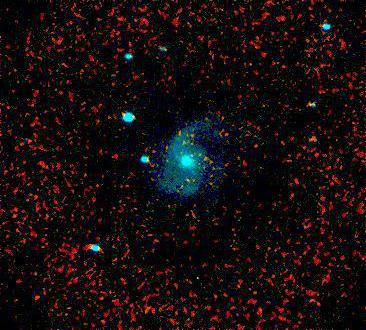star: (180, 144, 210, 174)
